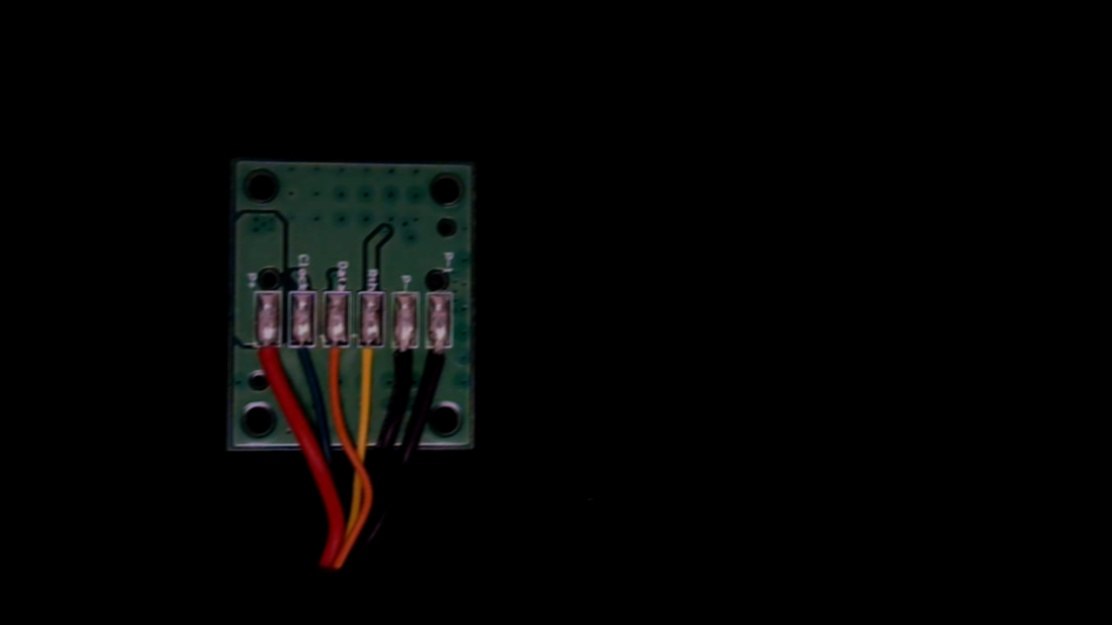Black: (391, 330, 416, 386)
Black1: (427, 331, 452, 384)
Green: (289, 330, 317, 383)
Orange: (321, 330, 350, 384)
Red: (256, 331, 281, 388)
Yellow: (356, 329, 383, 391)
